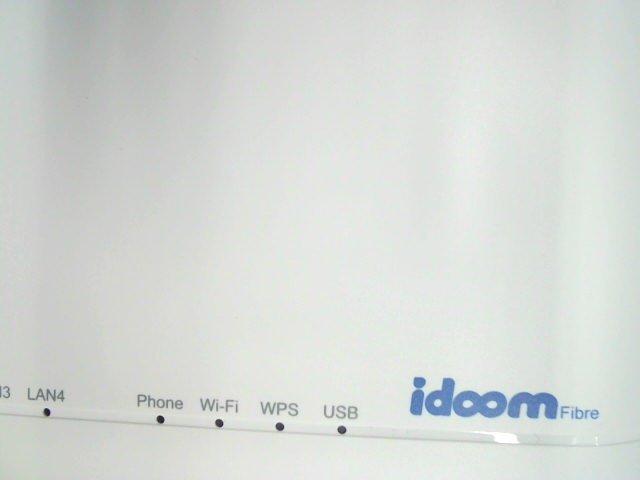BB_idoom: (399, 371, 602, 431)
